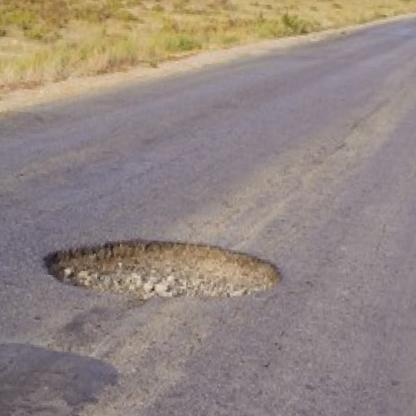pothole: (39, 231, 285, 311)
